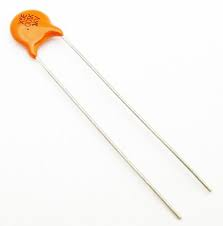ceramic capacitor: (6, 5, 82, 73)
